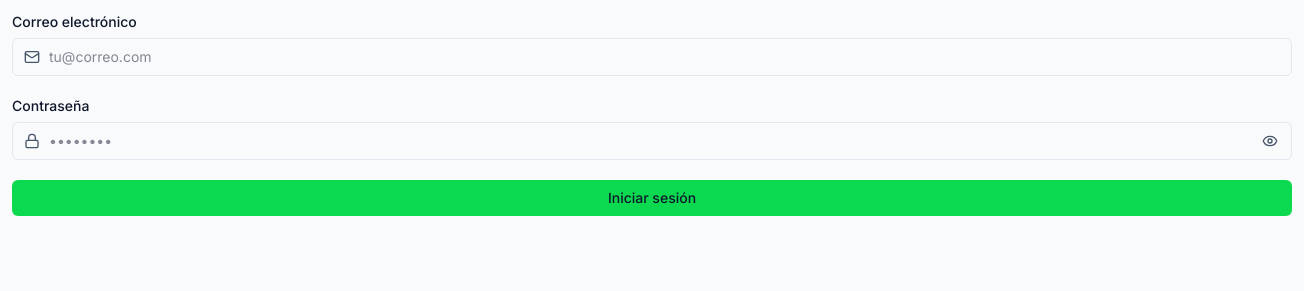
LoginForm (integración de componente con la server action mockeada) › muestra el error como alerta accesible
The width and height of the screenshot is (1304, 291).
Type "admin@example.test" into the field labelled "Correo electrónico".
click(652, 57); type("admin@example.test")  # box [12, 38, 1292, 76]
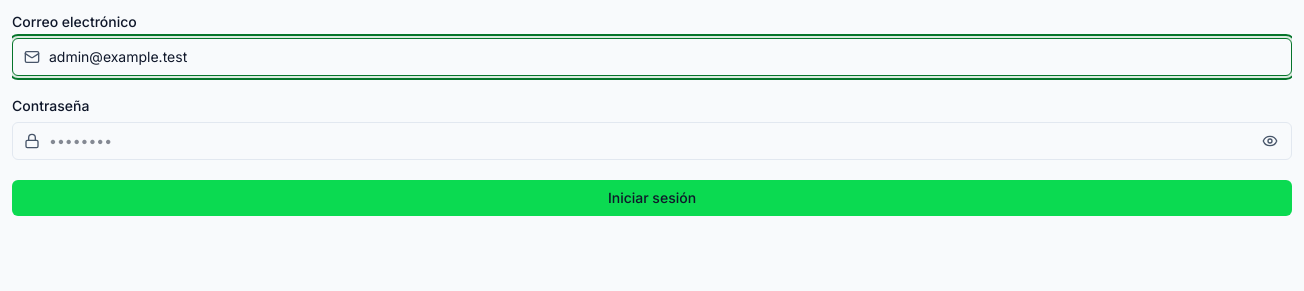
Type "Secreta123!" into the password field labelled "Contraseña".
click(652, 141); type("Secreta123!")  # box [12, 122, 1292, 160]
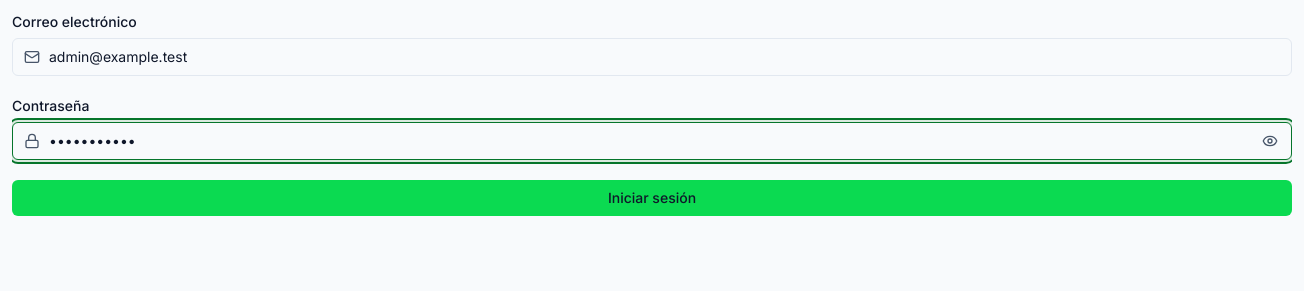
Click the button "Iniciar sesión".
click(652, 198)  # box [12, 180, 1292, 216]
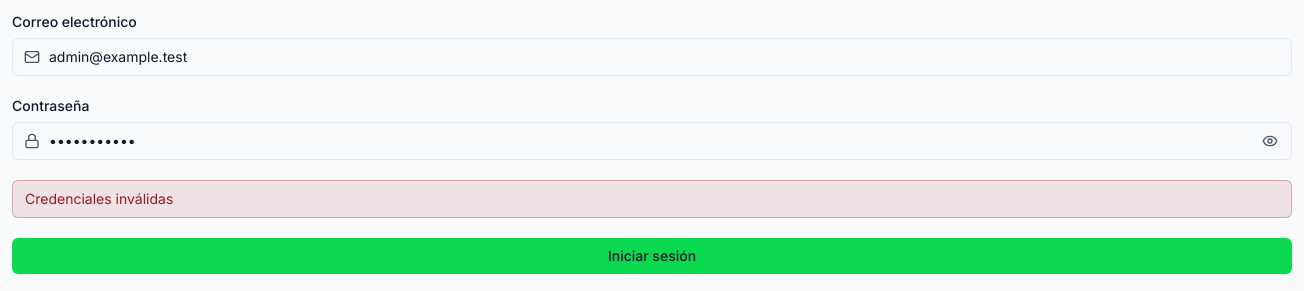
Check: the button "Iniciar sesión" is enabled, box [12, 238, 1292, 274]
Check: the message reads "Credenciales inválidas", box [25, 190, 173, 207]
